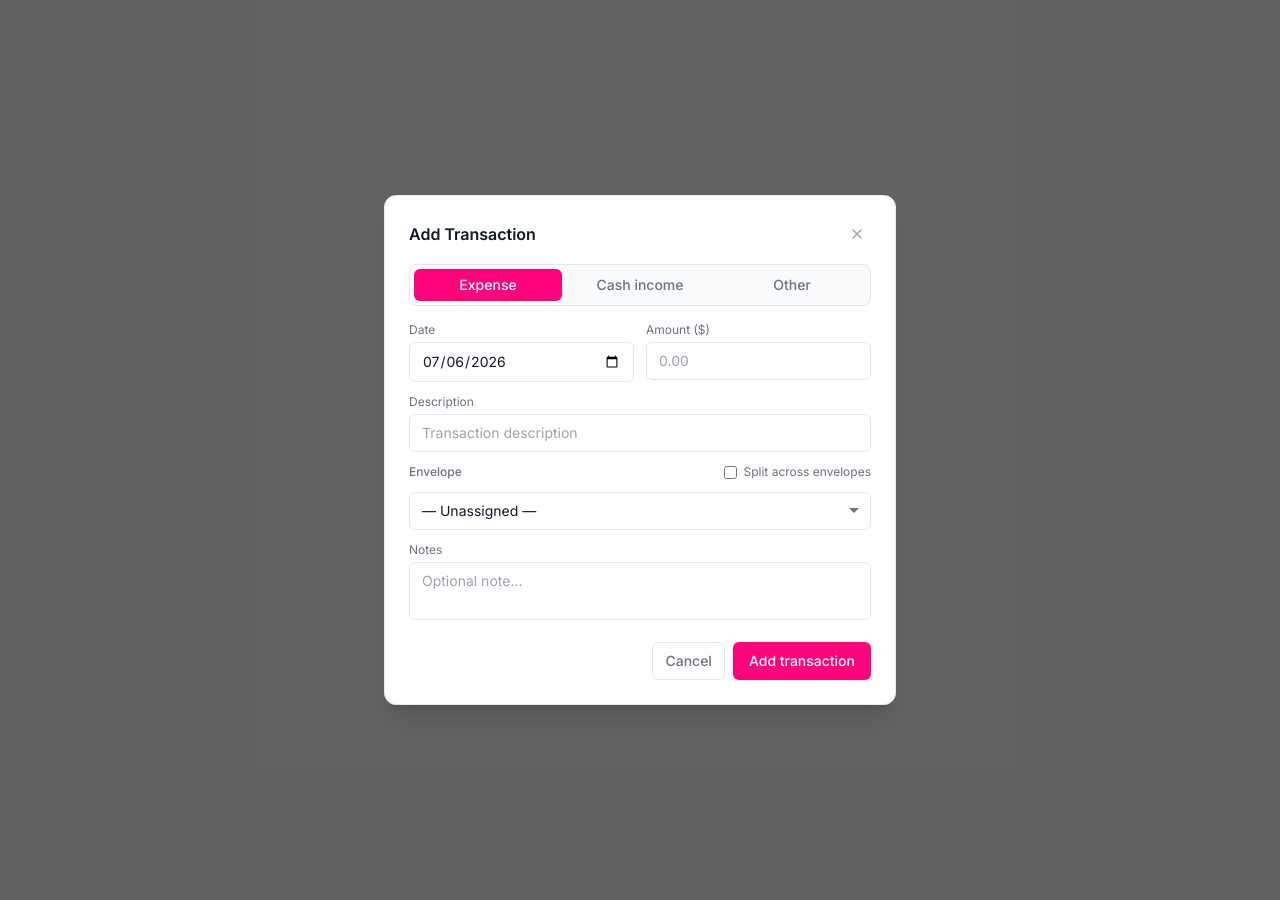
Test: Flow 2 — Add transaction: Cash income tab › shows balance tracker: over / remaining / balanced
This screenshot has width=1280, height=900.
Click the button "Cash income" at (640, 285), box [566,269,714,301]
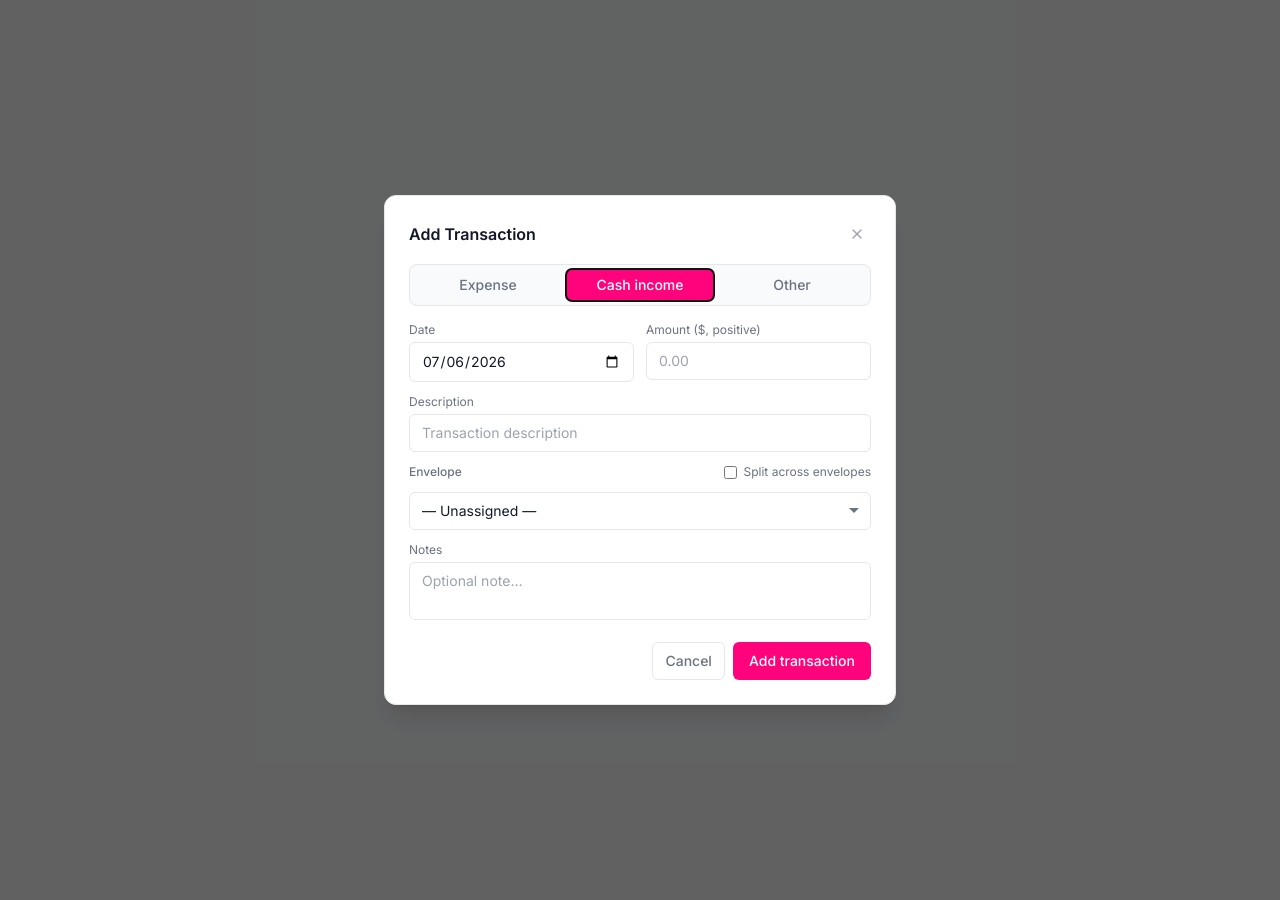
// Enter a total amount
Type "200" into the number field with placeholder "0.00" at (758, 361), box [646,342,871,380]
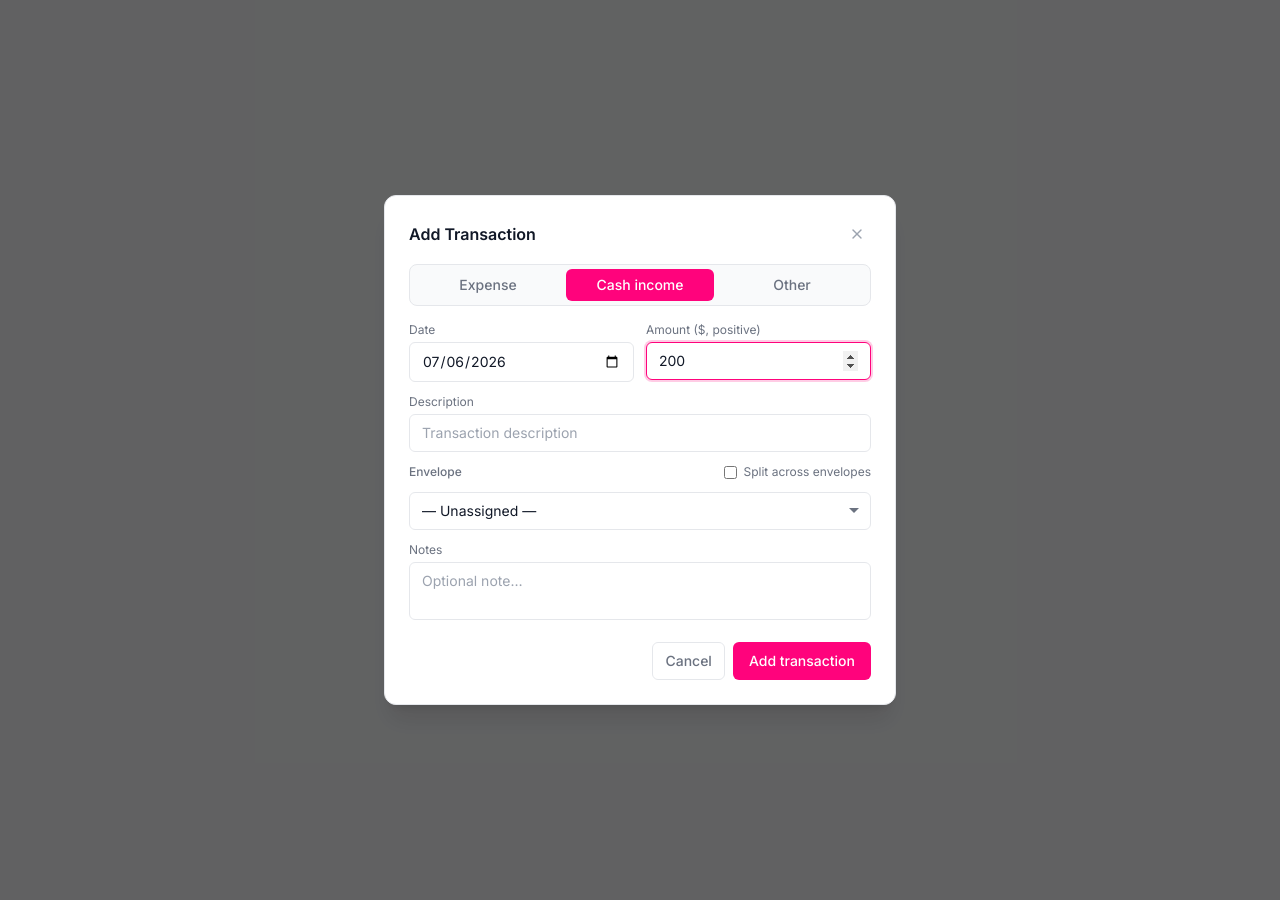
// Enable split
Click the checkbox at (731, 472), box [724,466,738,478]
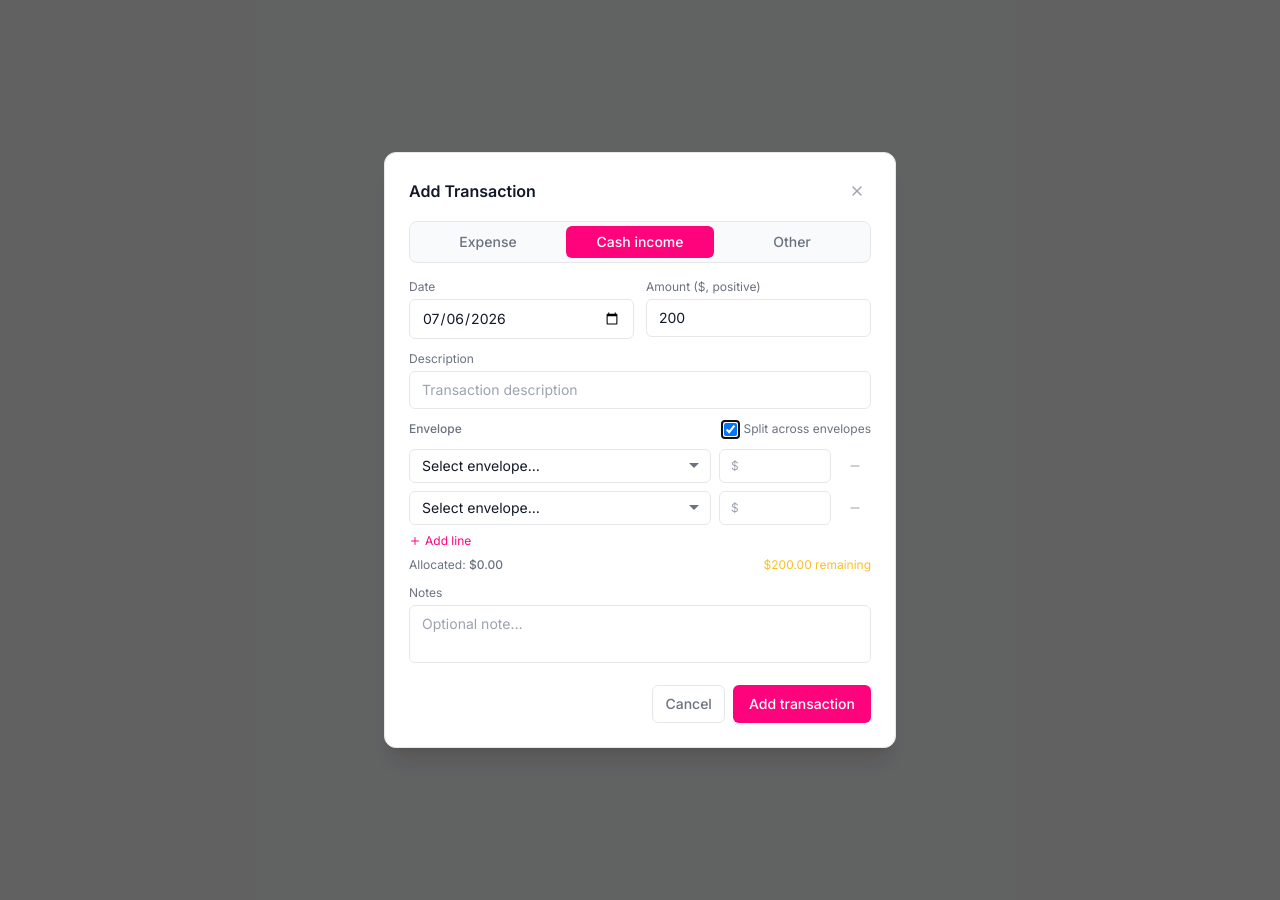
Expected: the text "$200.00 remaining" is shown, [764,557,871,573]
